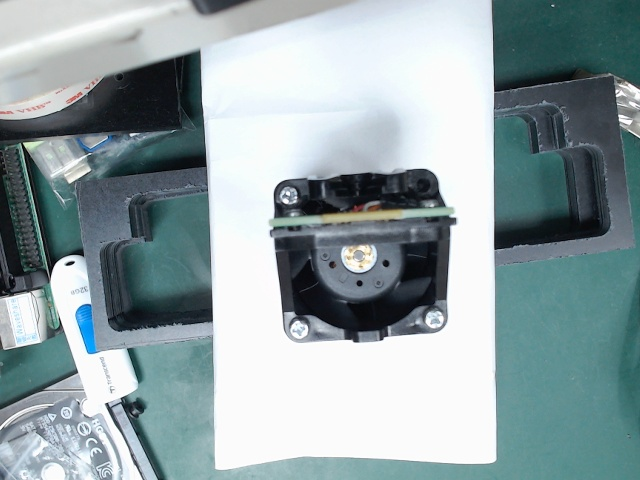Phase1_OK: (254, 155, 482, 356)
